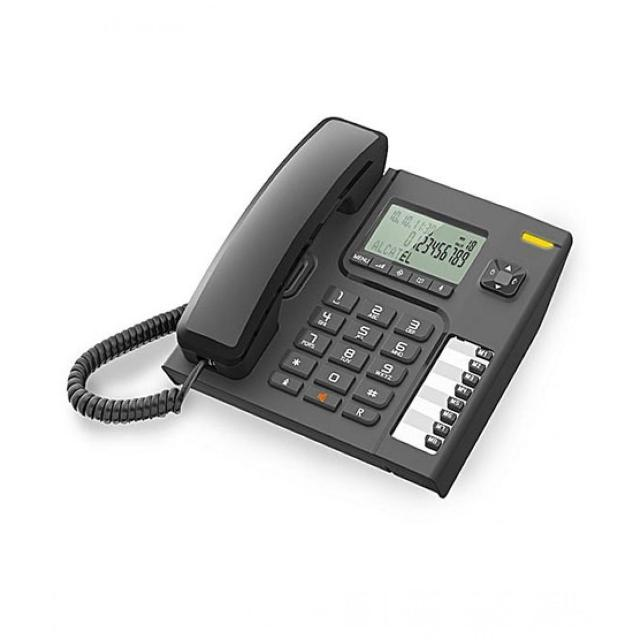Telephone-Set: (122, 59, 568, 508)
